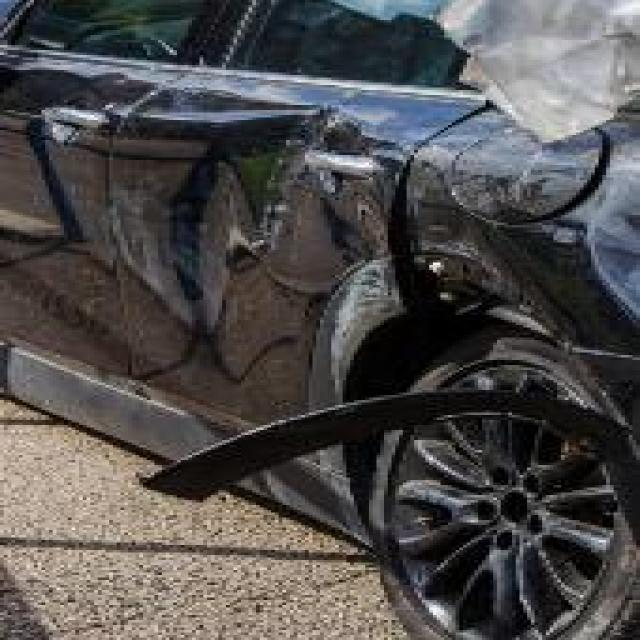Door: (128, 0, 425, 480)
Fender: (482, 102, 640, 365)
